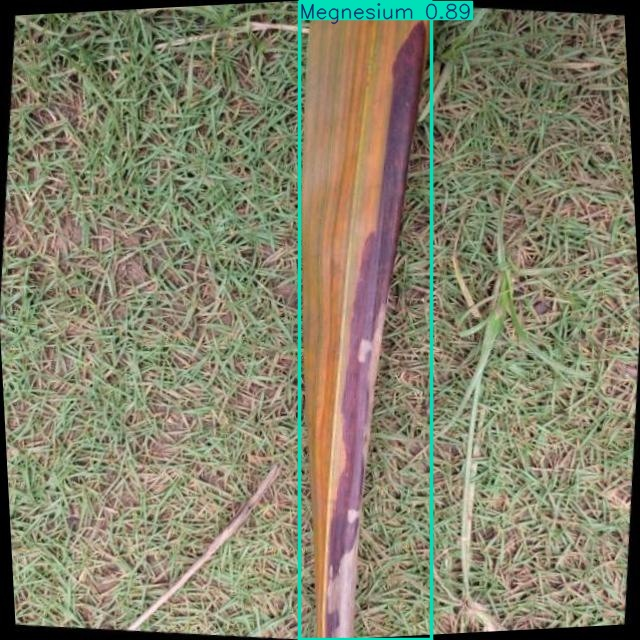Megnesium: (300, 2, 431, 639)
